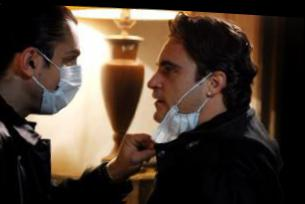OK: (35, 37, 87, 118)
WRONG: (150, 47, 200, 125)
